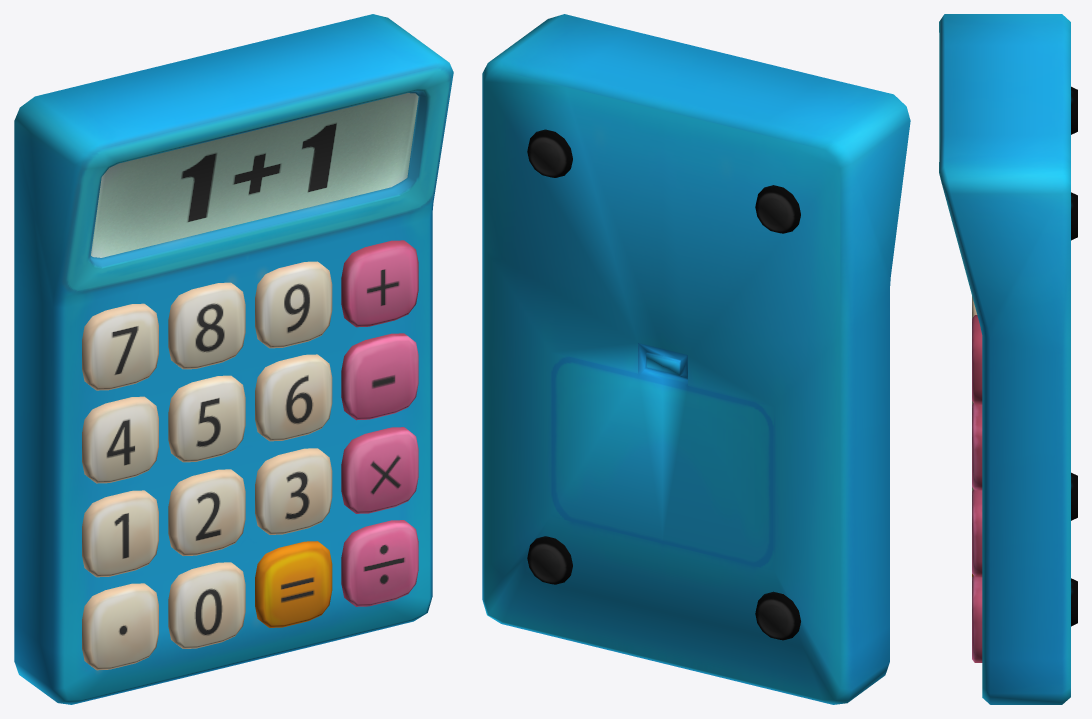
File: JiSuanQi.FBX
3 renders of one model, left to right at view 1: azimuth 30°, elevation 25°; view 2: azimuth 150°, elevation 25°; view 3: azimuth 270°, elevation 25°, orthographic. The views are drawn at different scales.
Visible parts, largest first — view 1: JiSuanQi; view 2: JiSuanQi; view 3: JiSuanQi.
Part boxes in pixels (x1,y1,x2,y2): JiSuanQi: (14,14,453,704); JiSuanQi: (482,14,910,704); JiSuanQi: (939,14,1077,704).
Bounding box in the file's own units: 75.57 × 110 × 25.92.
1 material, 1 textured.
